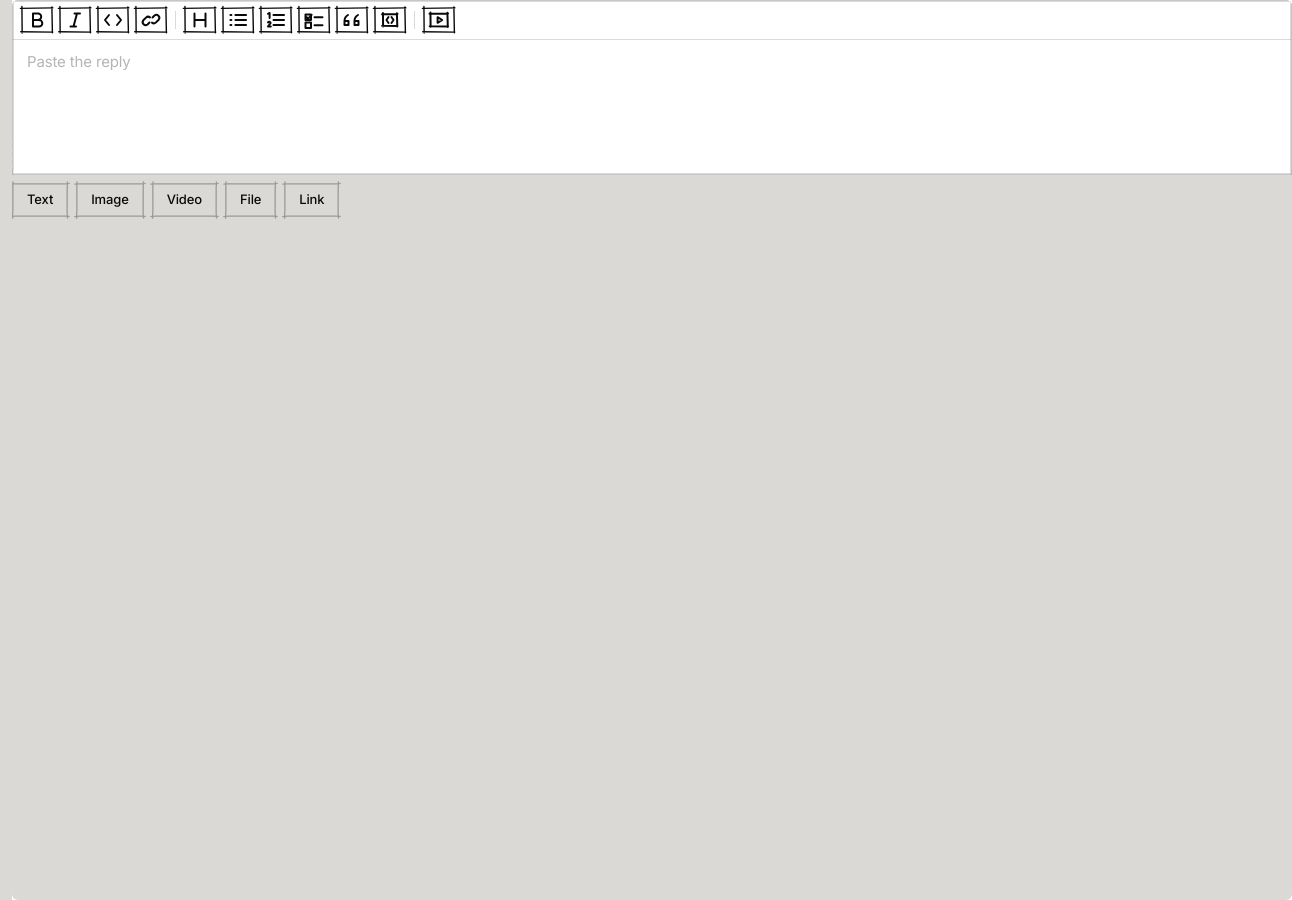
Scenario: ReplyItemsEditor › a link line refuses ftp and javascript with one line under it, and Enter commits a web link
Click the button with aria-label "Add link".
click(312, 200)  # box [284,183,340,216]
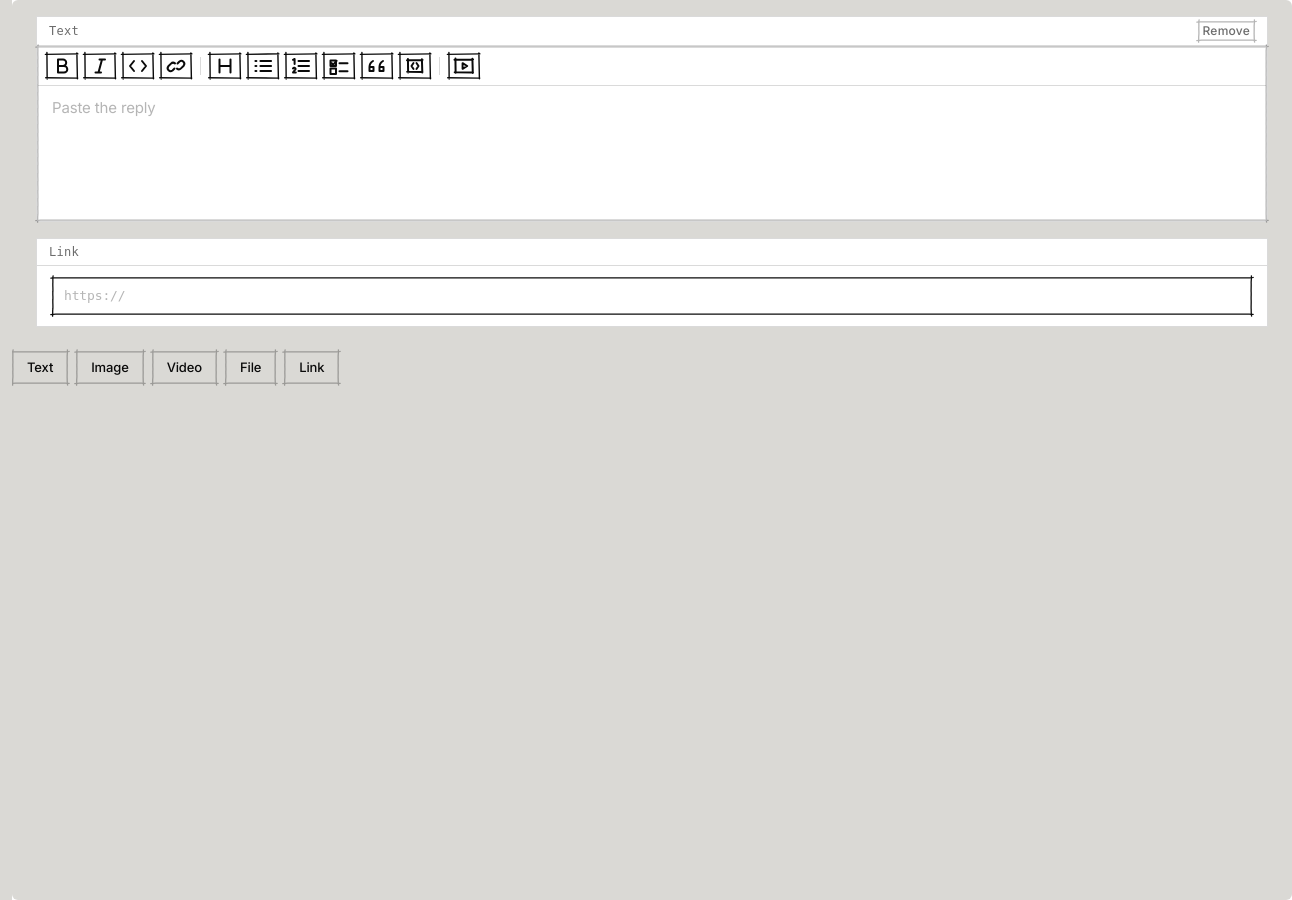
Type "ftp://x" into the field named "Link".
click(652, 296); type("ftp://x")  # box [53,278,1251,314]
Then press Enter
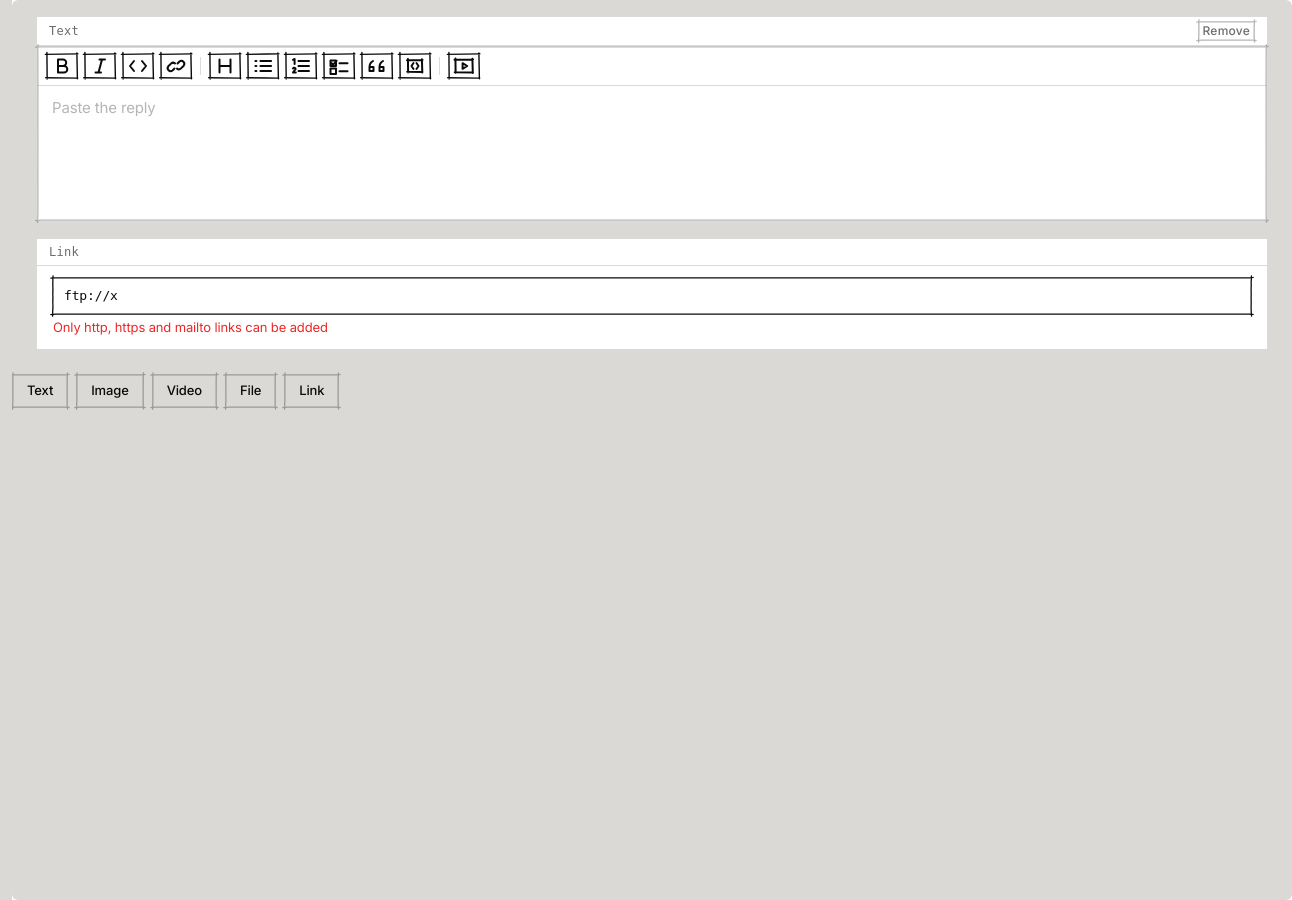
Expected: the text "Only http, https and mailto links can be added" is shown, [53,318,328,334]
Replace the text in the field named "Link" with "javascript:alert(1)" at {"x": 652, "y": 296}, box [53,278,1251,314]
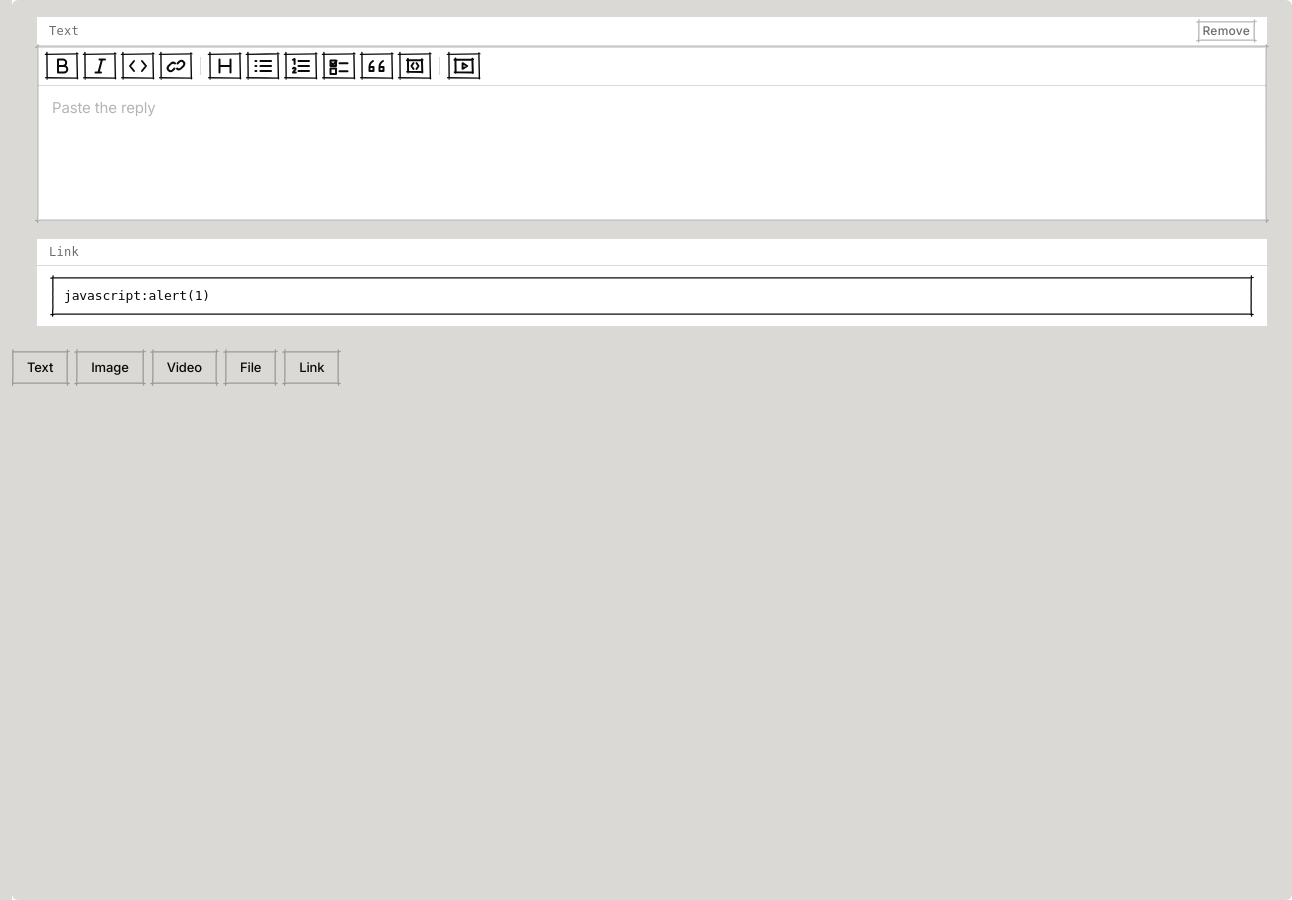
Press Tab
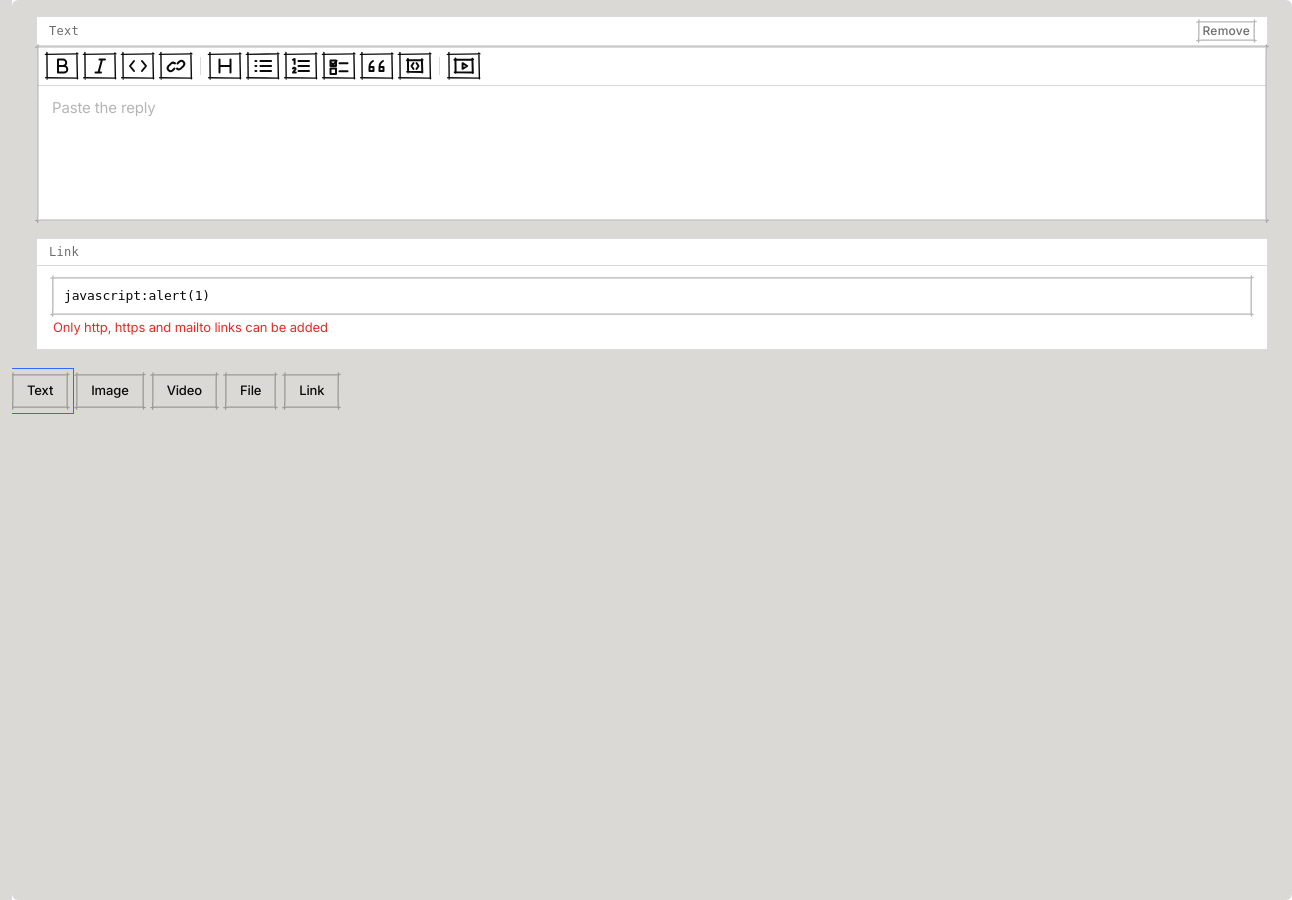
Replace the text in the field named "Link" with " https://example.com/run " at {"x": 652, "y": 296}, box [53,278,1251,314]
Then press Enter
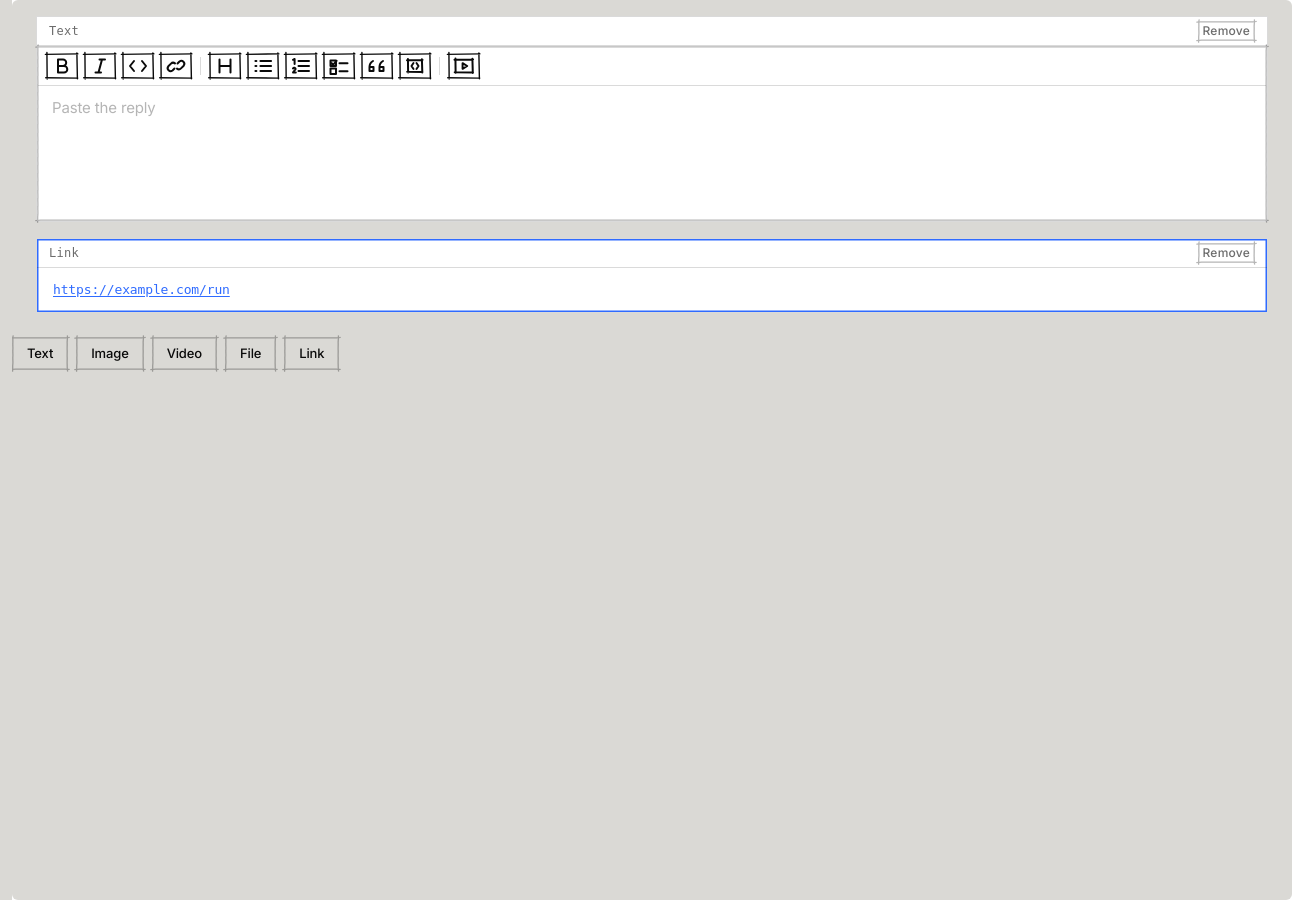
Expected: the text "Link Only http, https and mailto links can be added" is not shown
Expected: the link "https://example.com/run" is shown, [53,282,230,297]
